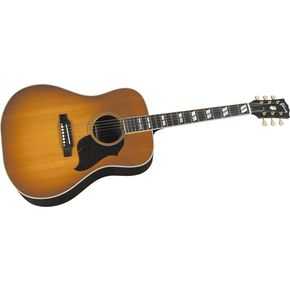guitar: (1, 83, 290, 208)
